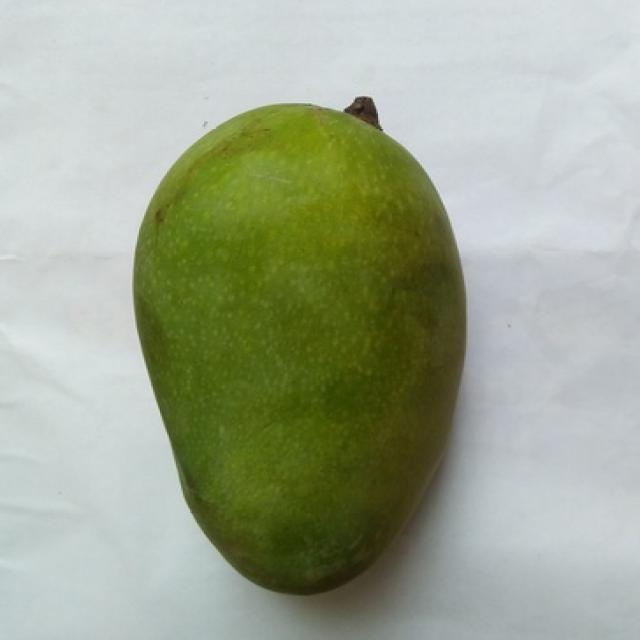Mango: (135, 105, 464, 592)
